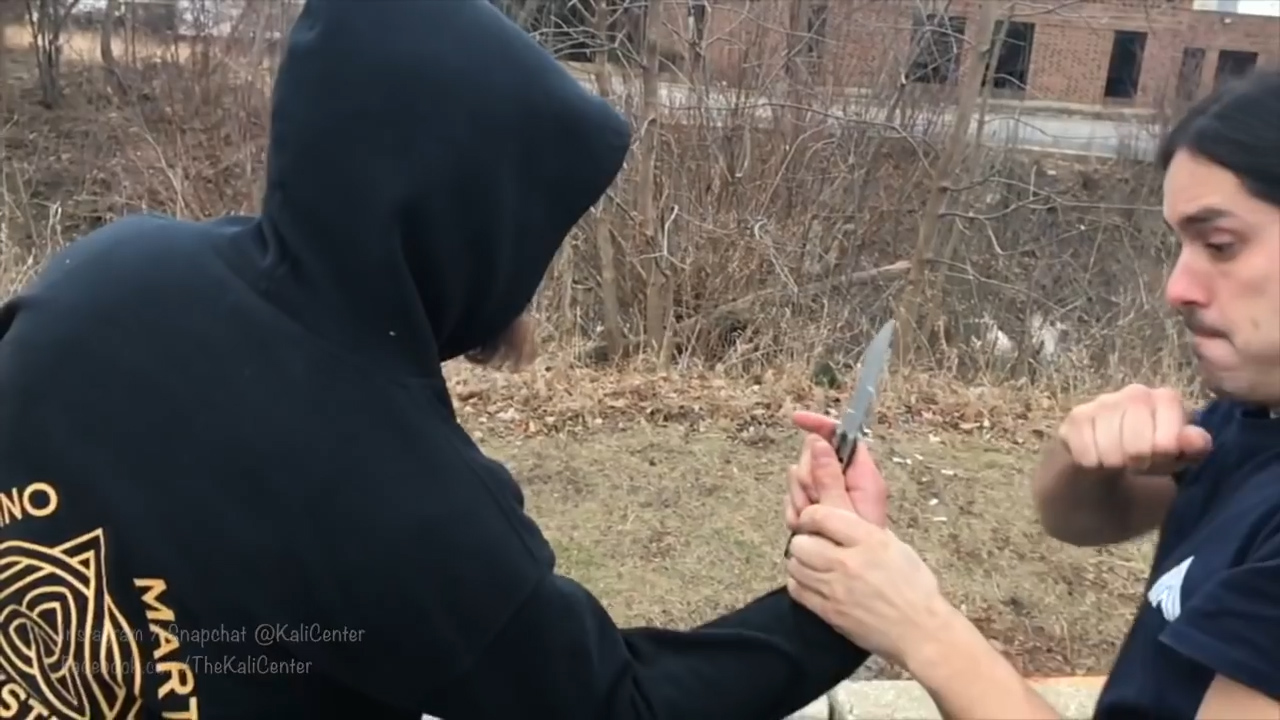knife: (778, 307, 914, 533)
